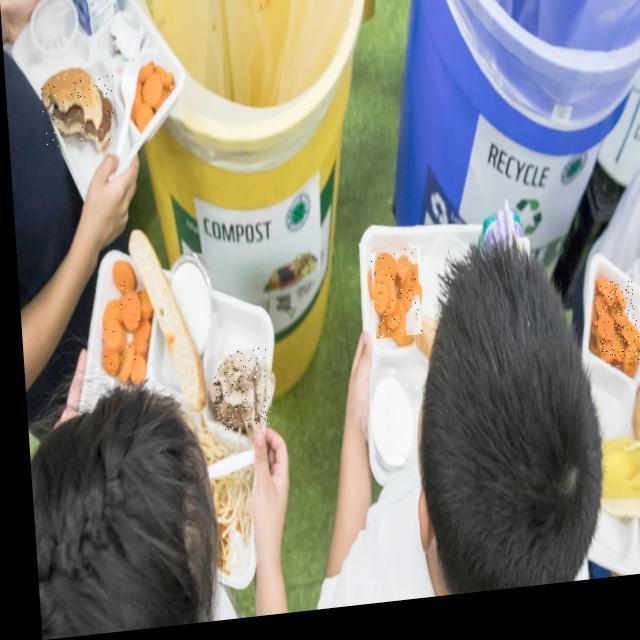trashbin: (129, 0, 374, 399), (391, 0, 638, 286)
